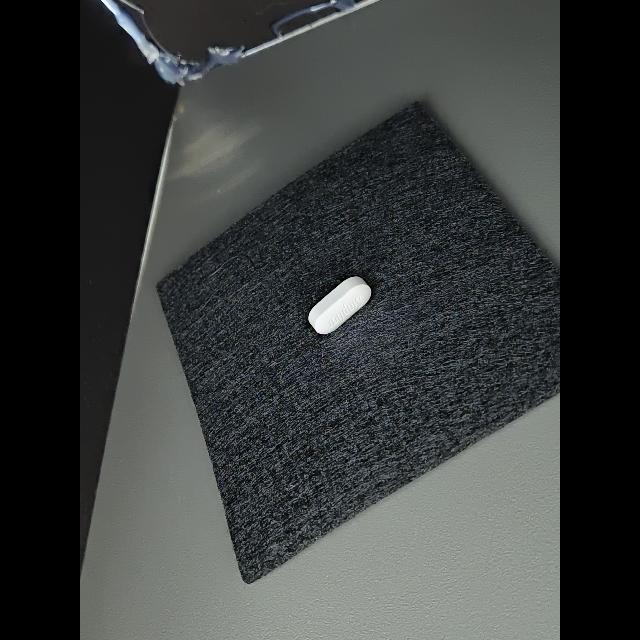Intact Pill: (308, 276, 371, 334)
